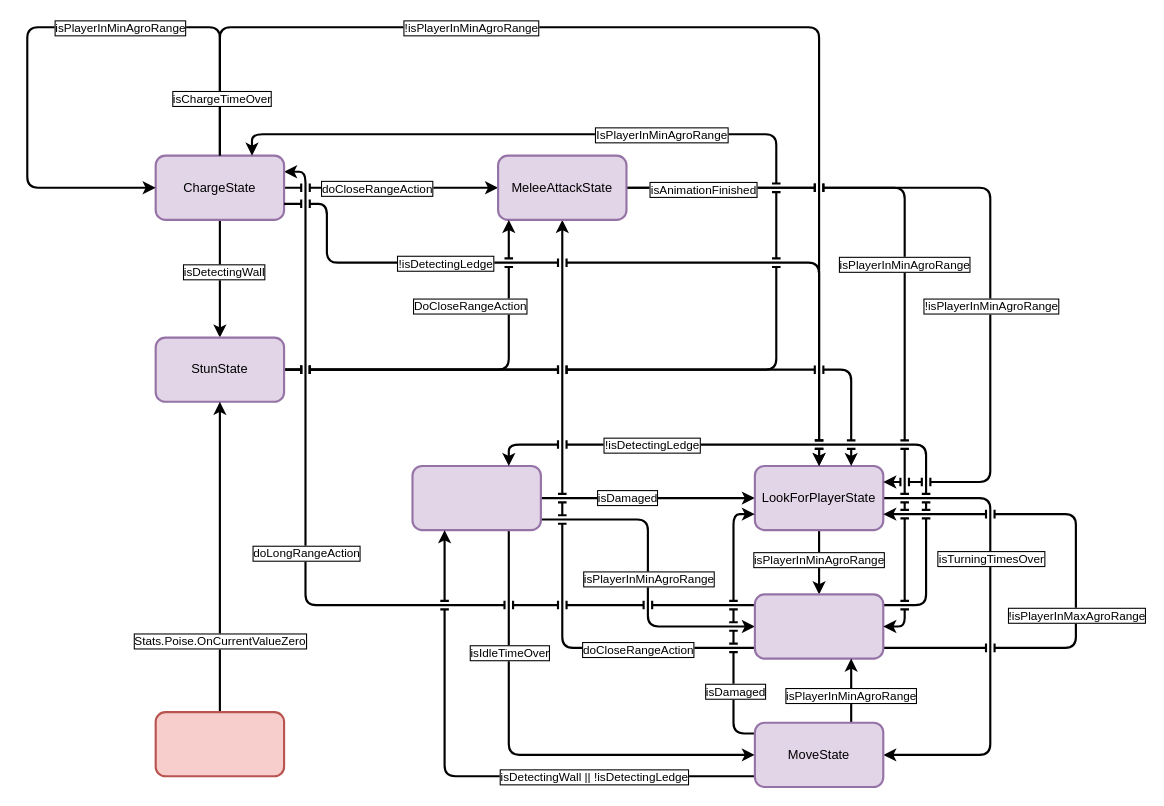
Image size: 1164x806. Some labels were removed from this diagram. The shapes that lost their labels are listed below. From the top down, each one's centre as x and y in pixels, then its label:
At [476,497]: "IdleState".
At [818,626]: "PlayerDetectedState".
At [219,743]: "AnyState".
